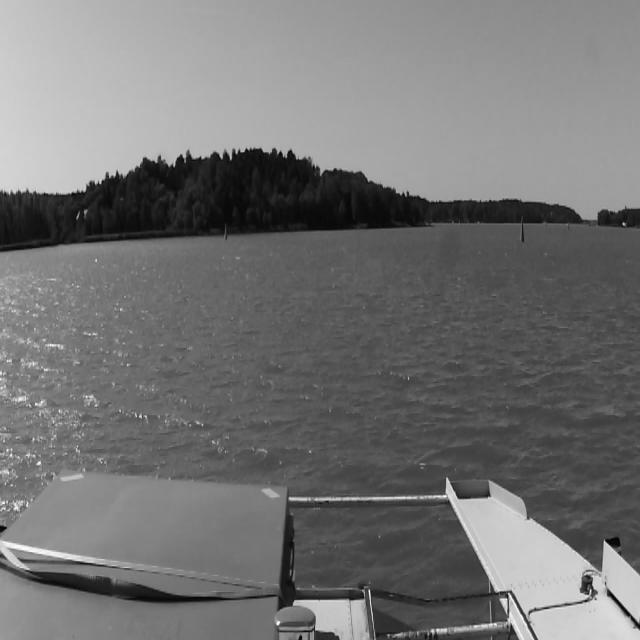buoy: (518, 219, 528, 245), (222, 223, 230, 241)
